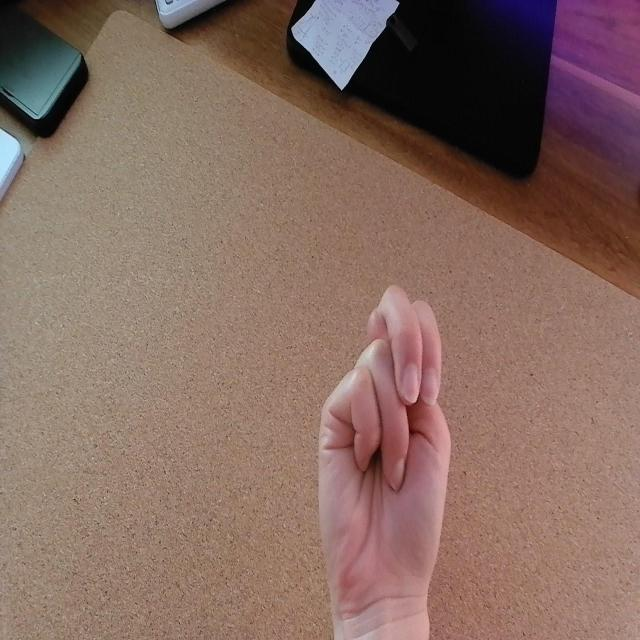N: (314, 280, 454, 608)
